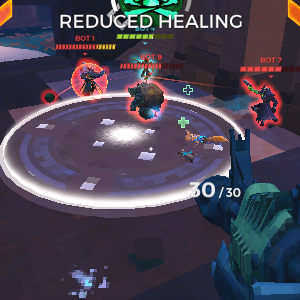model: (247, 77, 279, 130), (129, 78, 165, 125), (77, 61, 104, 101)
